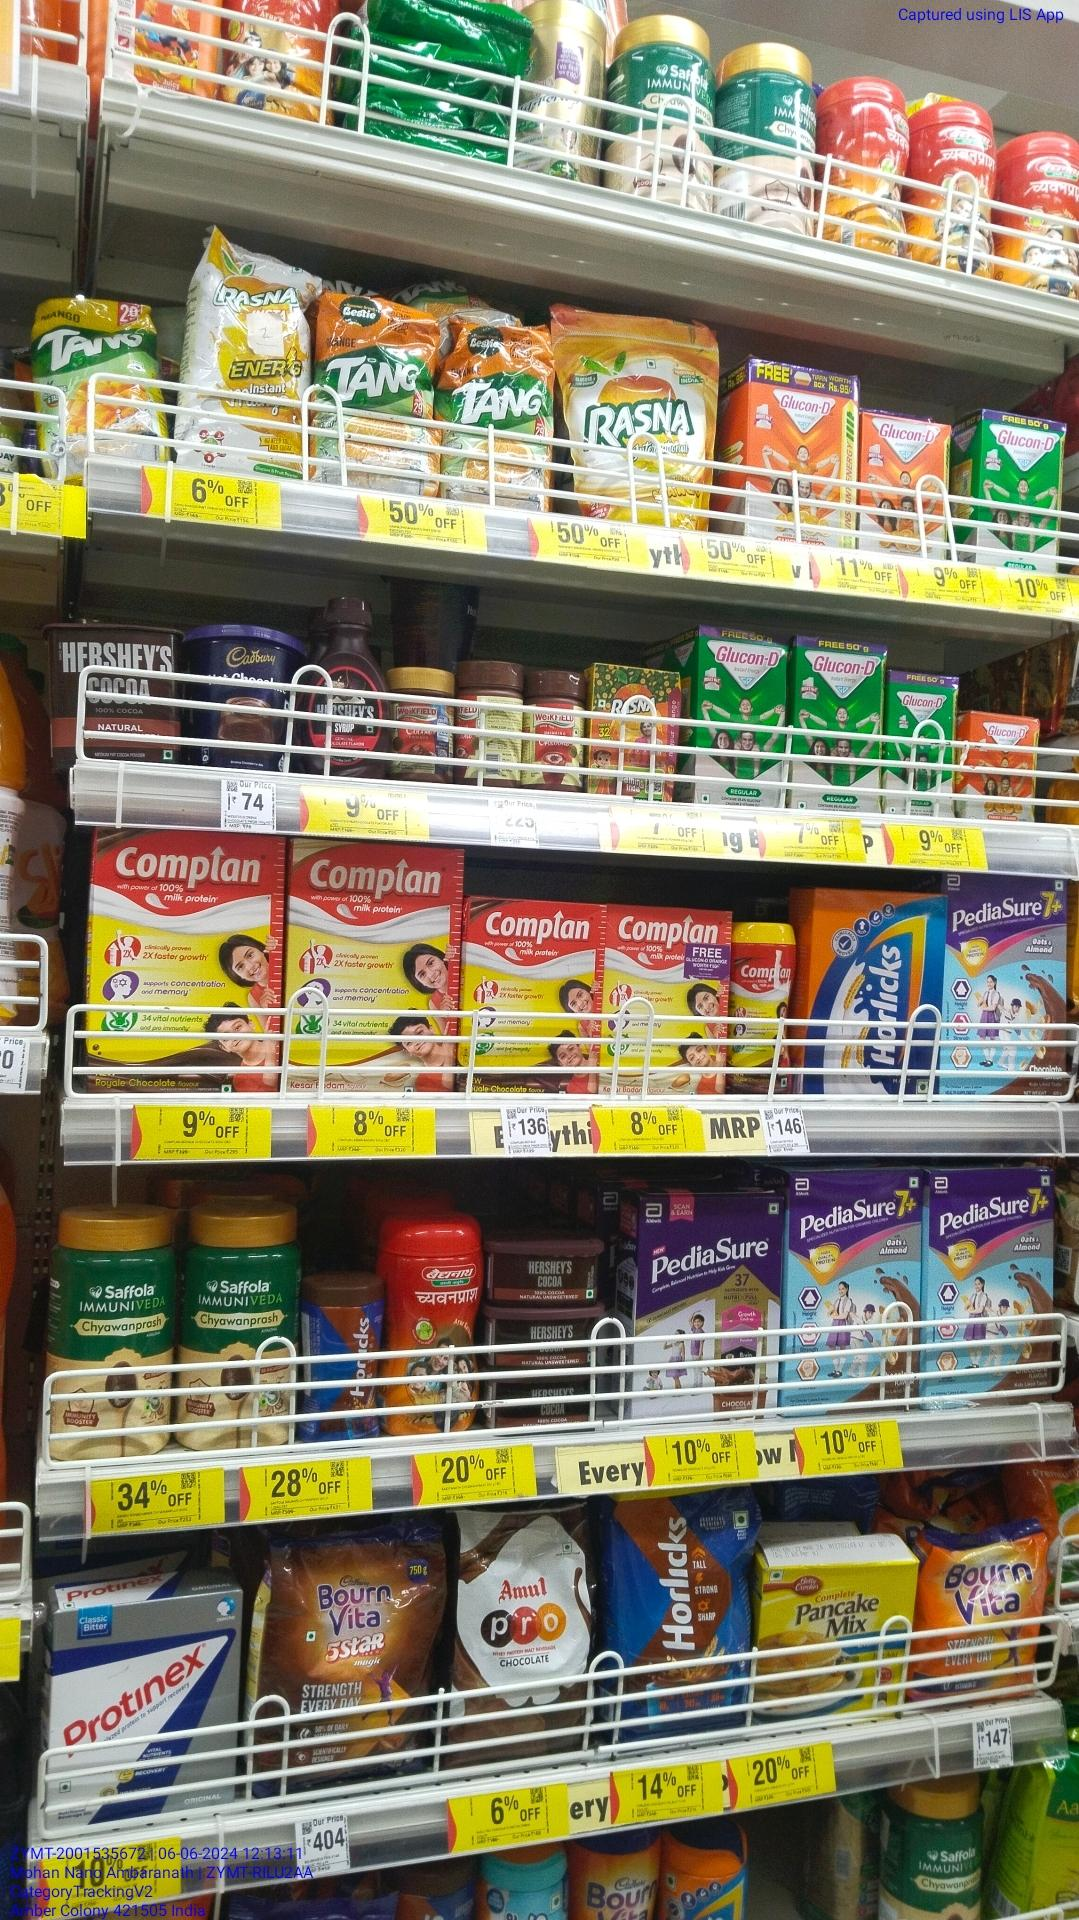BOURN_VITA_FIVE_STAR_MAGIC_750_G_POUCH: (266, 1535, 435, 1800)
COMPLAN_CHOCOLATE_200_GMS_JAR: (732, 920, 797, 1098)
COMPLAN_CHOCOLATE_200_GMS_PACK: (470, 899, 592, 1098)
COMPLAN_KESAR_BADAM_200_GMS_PACK: (601, 897, 728, 1097)
HORLICK_CHOCOLATE_200_G_JAR: (302, 1280, 386, 1448)
PEDIASURE_7_PLUS_CHOCOLATE_400_G_PACK: (946, 868, 1079, 1106), (793, 1168, 919, 1416), (930, 1171, 1055, 1410)
PEDIASURE_CHOCOLATE_500_G_PACK: (636, 1193, 776, 1422)
